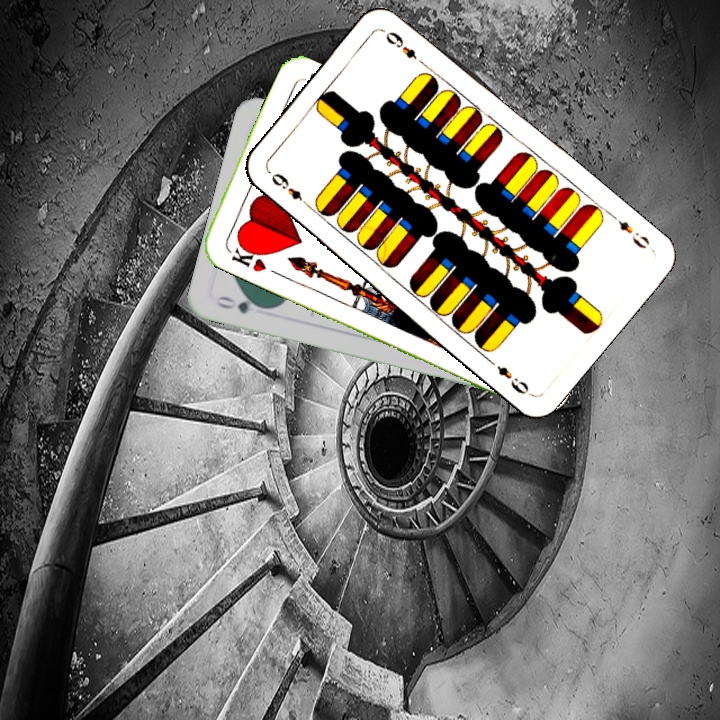E9: (606, 209, 653, 252), (267, 169, 312, 210)
GO: (212, 291, 270, 317)
HK: (227, 238, 269, 275)
